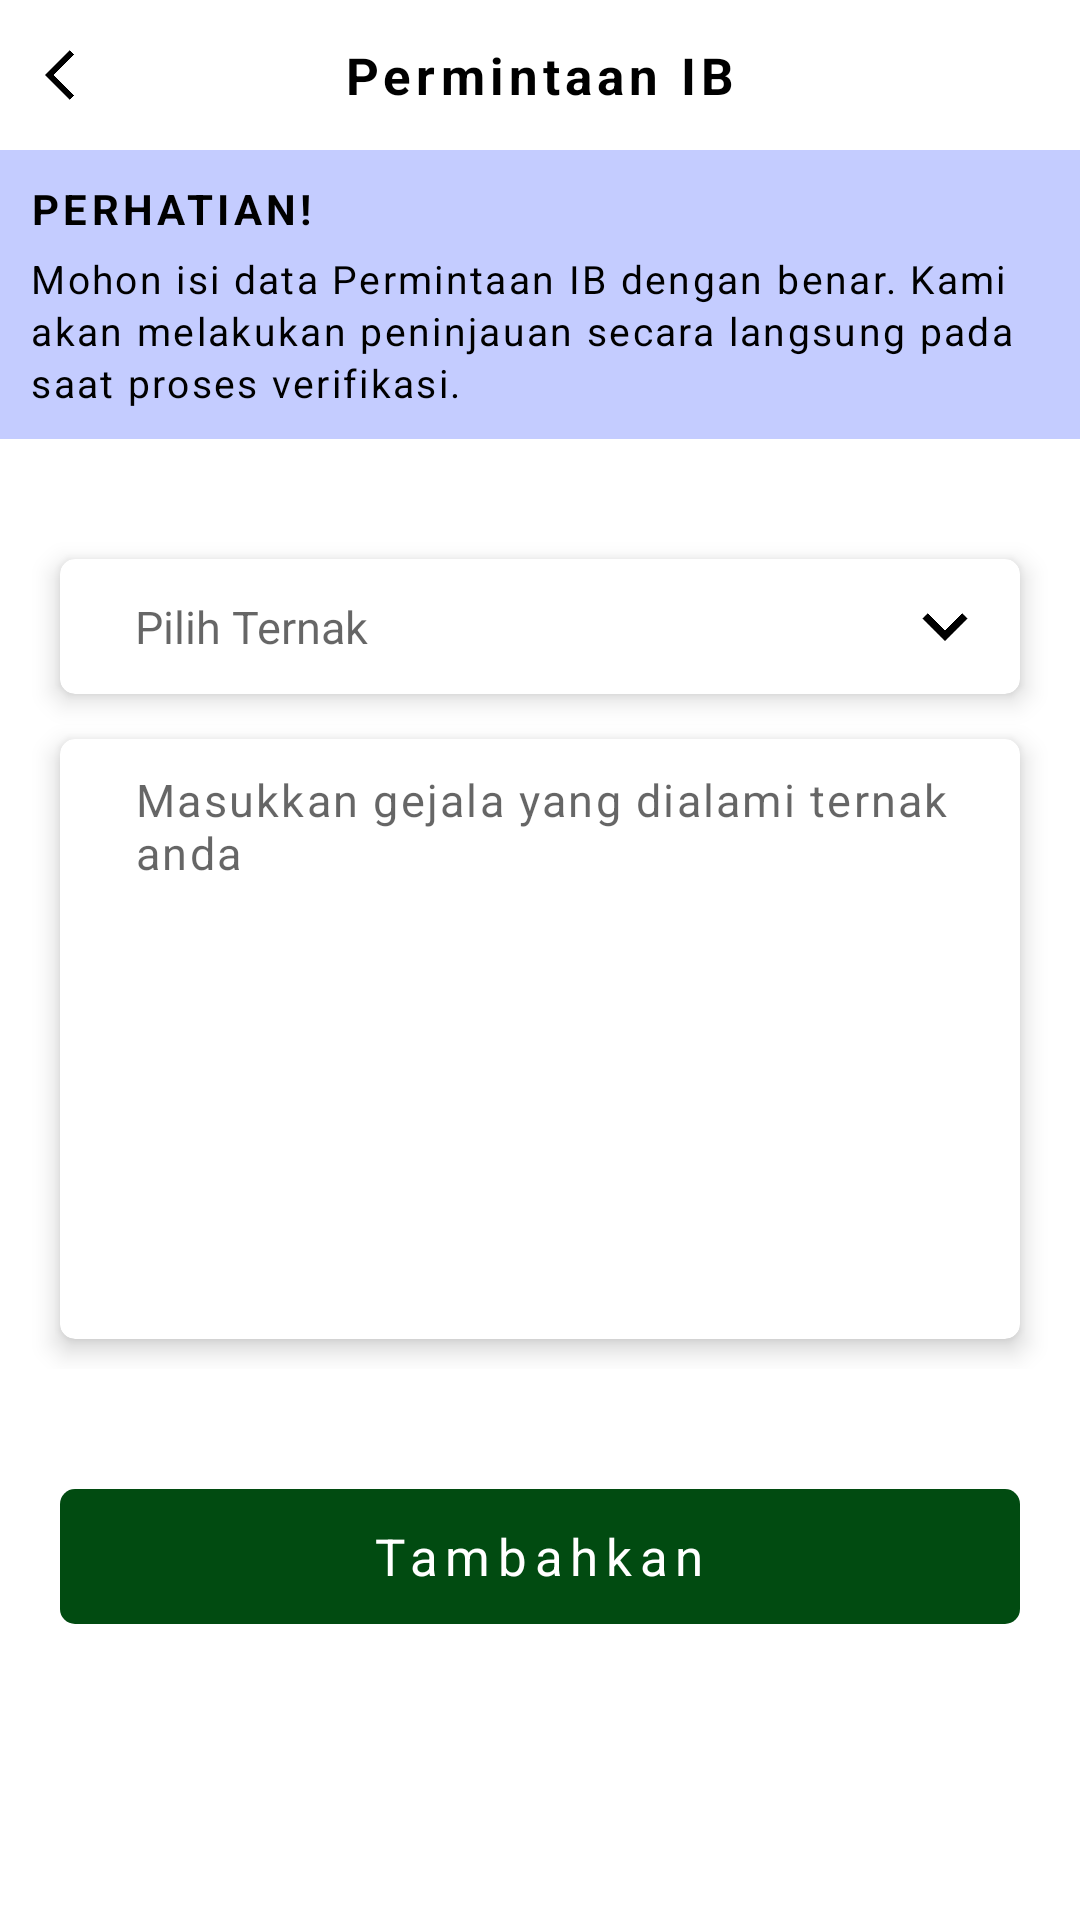

Point at icon controls on the screen. Image size 1080px×1920px, points as point (x, y).
arrow back: point (59, 75)
keyboard arrow down: point (945, 627)
